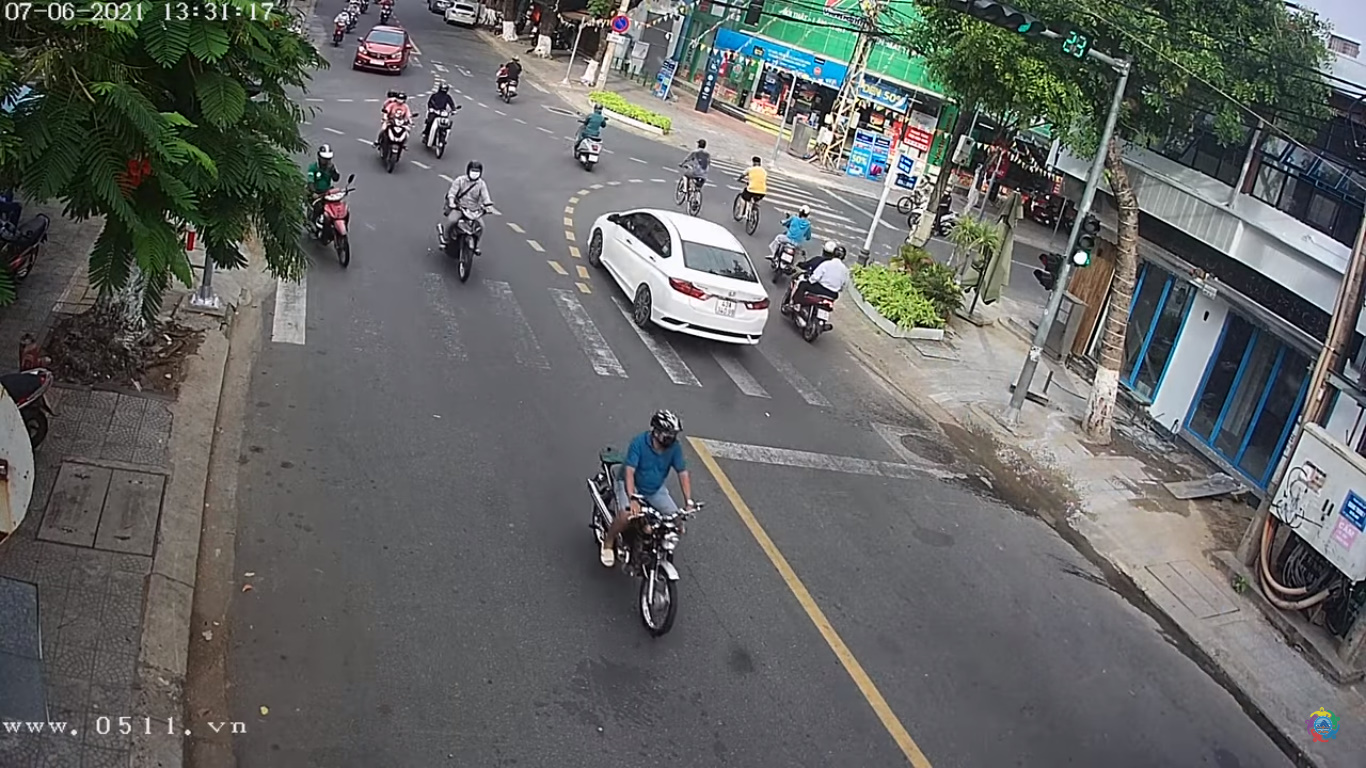car: (349, 31, 412, 75)
motorbike: (592, 404, 707, 629), (302, 150, 359, 269), (440, 159, 493, 280)
